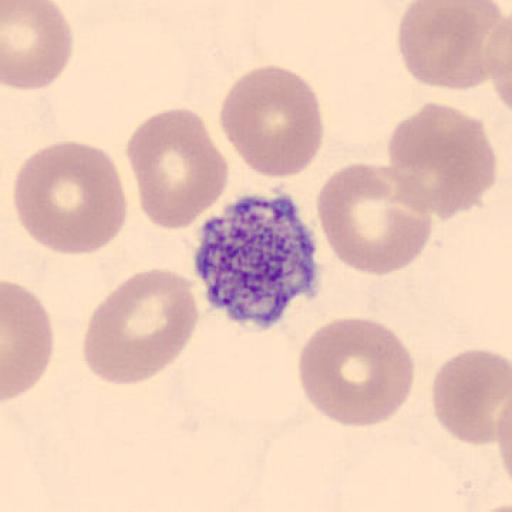Platelet: (193, 186, 323, 332)
RBC: (82, 268, 200, 386), (314, 161, 434, 276), (12, 139, 129, 256), (296, 316, 417, 429), (124, 106, 230, 231), (385, 101, 497, 219), (218, 63, 324, 180), (396, 0, 509, 90), (431, 348, 512, 446), (2, 279, 56, 404), (1, 0, 74, 92), (480, 5, 512, 110), (488, 16, 512, 112), (495, 394, 512, 506), (496, 398, 512, 480)
